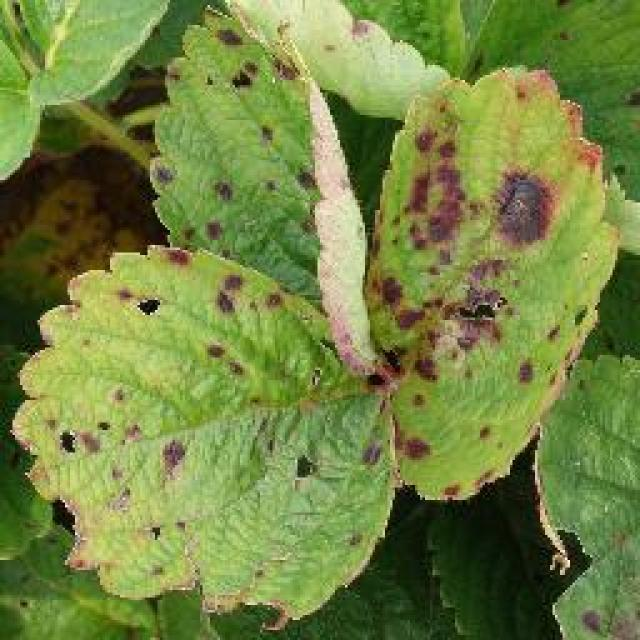Strawberry leaf scorch: (142, 114, 596, 528)
